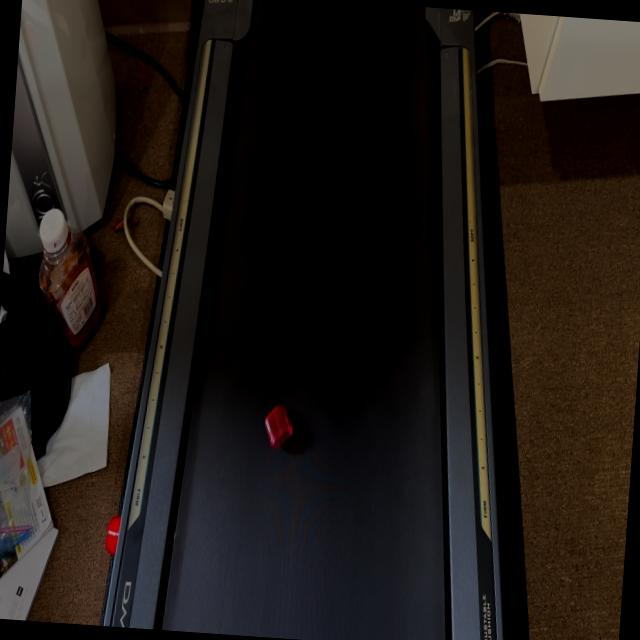Recycle: (261, 399, 295, 453)
